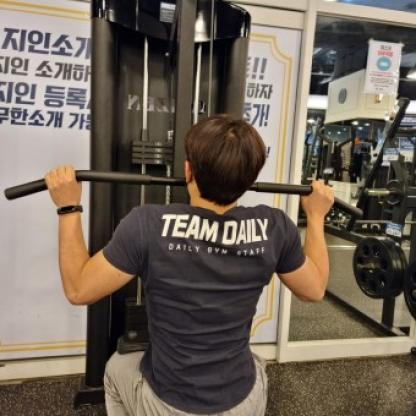Lat Pull Down: (0, 0, 350, 416)
